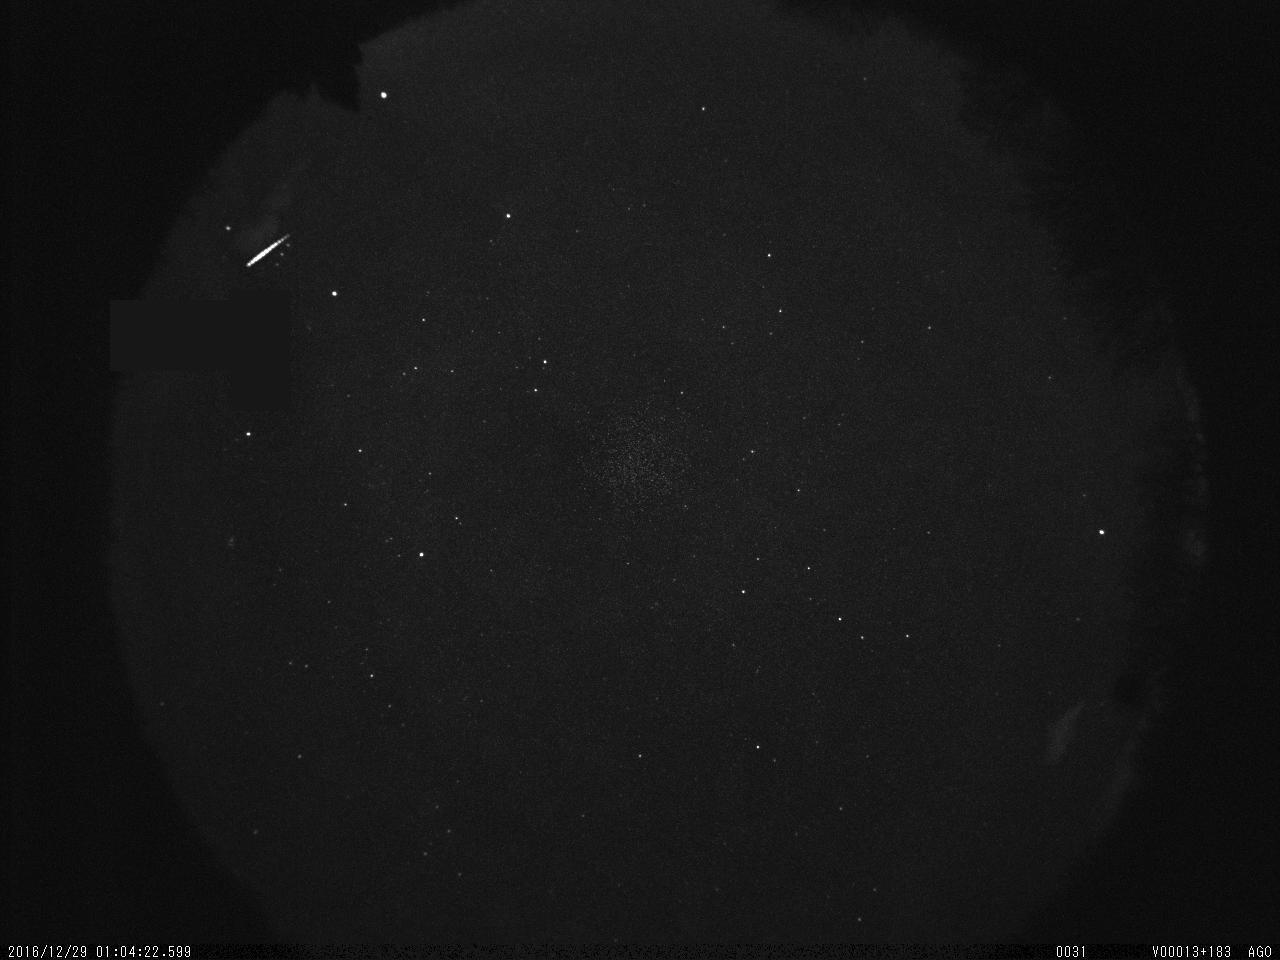meteor: (223, 213, 339, 281)
